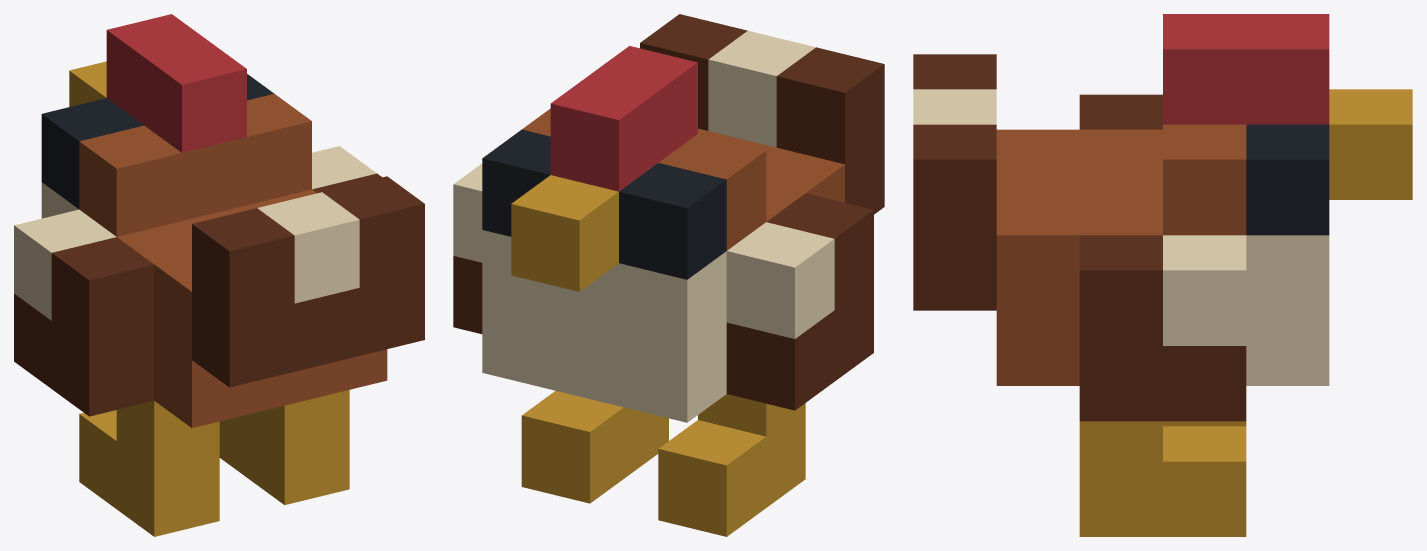
Rendered from dome_hen.glb.
3 renders of one model, left to right at view 1: azimuth 30°, elevation 25°; view 2: azimuth 150°, elevation 25°; view 3: azimuth 270°, elevation 25°, orthographic. The views are drawn at different scales.
Parts seen in each view (by area): view 1: spider; view 2: spider; view 3: spider.
Part boxes in pixels (x1=…): spider: x1=14, y1=14, x2=424, y2=536; spider: x1=453, y1=14, x2=884, y2=536; spider: x1=913, y1=14, x2=1412, y2=536.
Size of the model in its own units: 5 by 6 by 6.
